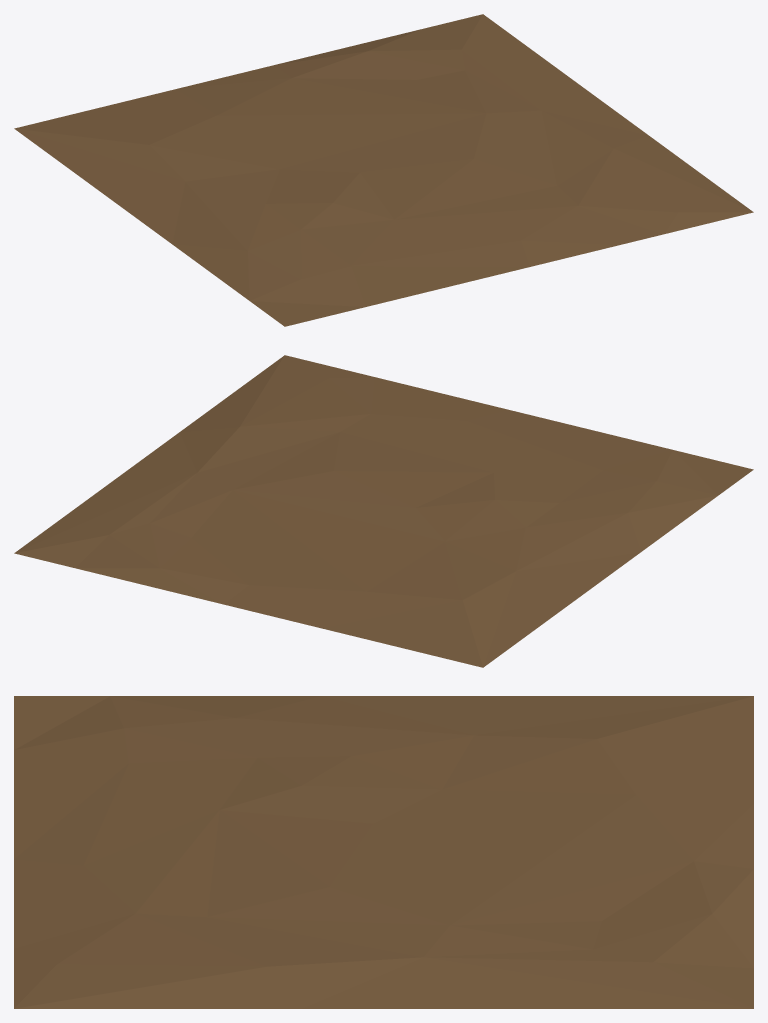
Rendered from SM_Envr_Nature_Terrain_Ground_Dirt_01.fbx.
The picture shows the model from 3 angles, top to bottom: view 1: azimuth 30°, elevation 25°; view 2: azimuth 150°, elevation 25°; view 3: azimuth 270°, elevation 25°; orthographic projection. The views are drawn at different scales.
Visible parts, largest first — view 1: SM_Envr_Nature_Terrain_Ground_Dirt_01; view 2: SM_Envr_Nature_Terrain_Ground_Dirt_01; view 3: SM_Envr_Nature_Terrain_Ground_Dirt_01.
Part boxes in pixels (x1,y1,x2,y2): SM_Envr_Nature_Terrain_Ground_Dirt_01: [14, 14, 753, 326]; SM_Envr_Nature_Terrain_Ground_Dirt_01: [14, 355, 753, 667]; SM_Envr_Nature_Terrain_Ground_Dirt_01: [14, 696, 753, 1008].
Size of the model in its own units: 500 by 9.51 by 500.
